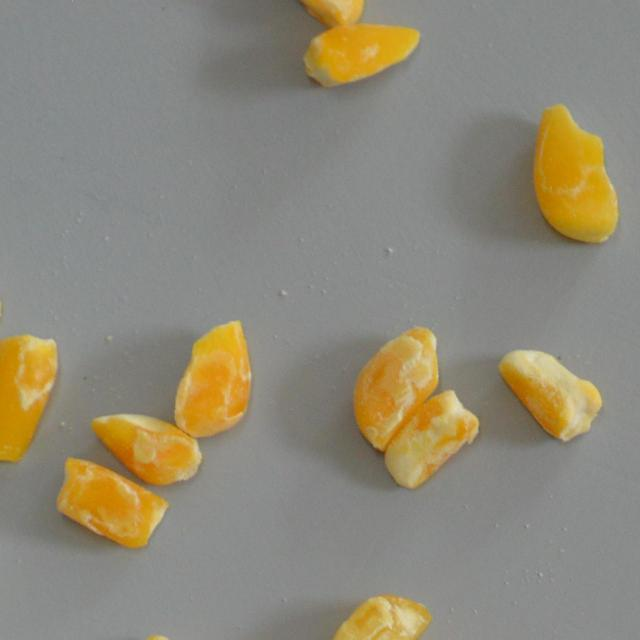pelicula: (532, 100, 618, 245), (171, 318, 259, 439), (356, 319, 431, 448), (88, 412, 204, 485), (496, 352, 606, 424), (72, 446, 140, 562), (0, 330, 50, 474), (328, 0, 390, 114), (398, 386, 458, 494), (336, 579, 406, 640)
